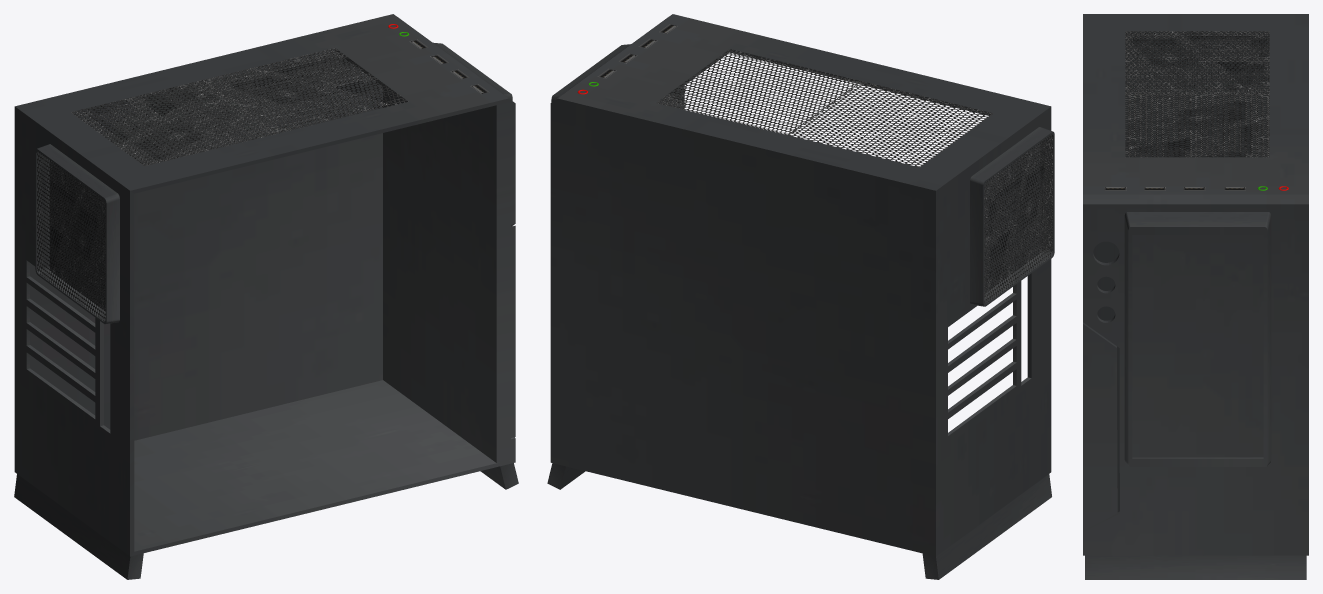
File: chassis.glb
3 renders of one model, left to right at view 1: azimuth 30°, elevation 25°; view 2: azimuth 150°, elevation 25°; view 3: azimuth 270°, elevation 25°, orthographic. The views are drawn at different scales.
Parts seen in each view (by area): view 1: Cube.011_Material.010_0, metal-mesh-500x500_metal-mesh-500x500_0; view 2: Cube.011_Material.010_0, metal-mesh-500x500_metal-mesh-500x500_0; view 3: Cube.011_Material.010_0, metal-mesh-500x500_metal-mesh-500x500_0, usb_usb_0.
Part boxes in pixels (box(x1,y1,x2,y2)): Cube.011_Material.010_0: box(14, 14, 518, 579); metal-mesh-500x500_metal-mesh-500x500_0: box(37, 48, 408, 321); Cube.011_Material.010_0: box(547, 14, 1054, 579); metal-mesh-500x500_metal-mesh-500x500_0: box(656, 49, 1052, 303); Cube.011_Material.010_0: box(1083, 14, 1308, 579); metal-mesh-500x500_metal-mesh-500x500_0: box(1125, 31, 1269, 157); usb_usb_0: box(1104, 187, 1245, 190).
Size of the model in its own units: 3.77 by 3.38 by 1.8.
Materials: 5 (3 with a texture image).
